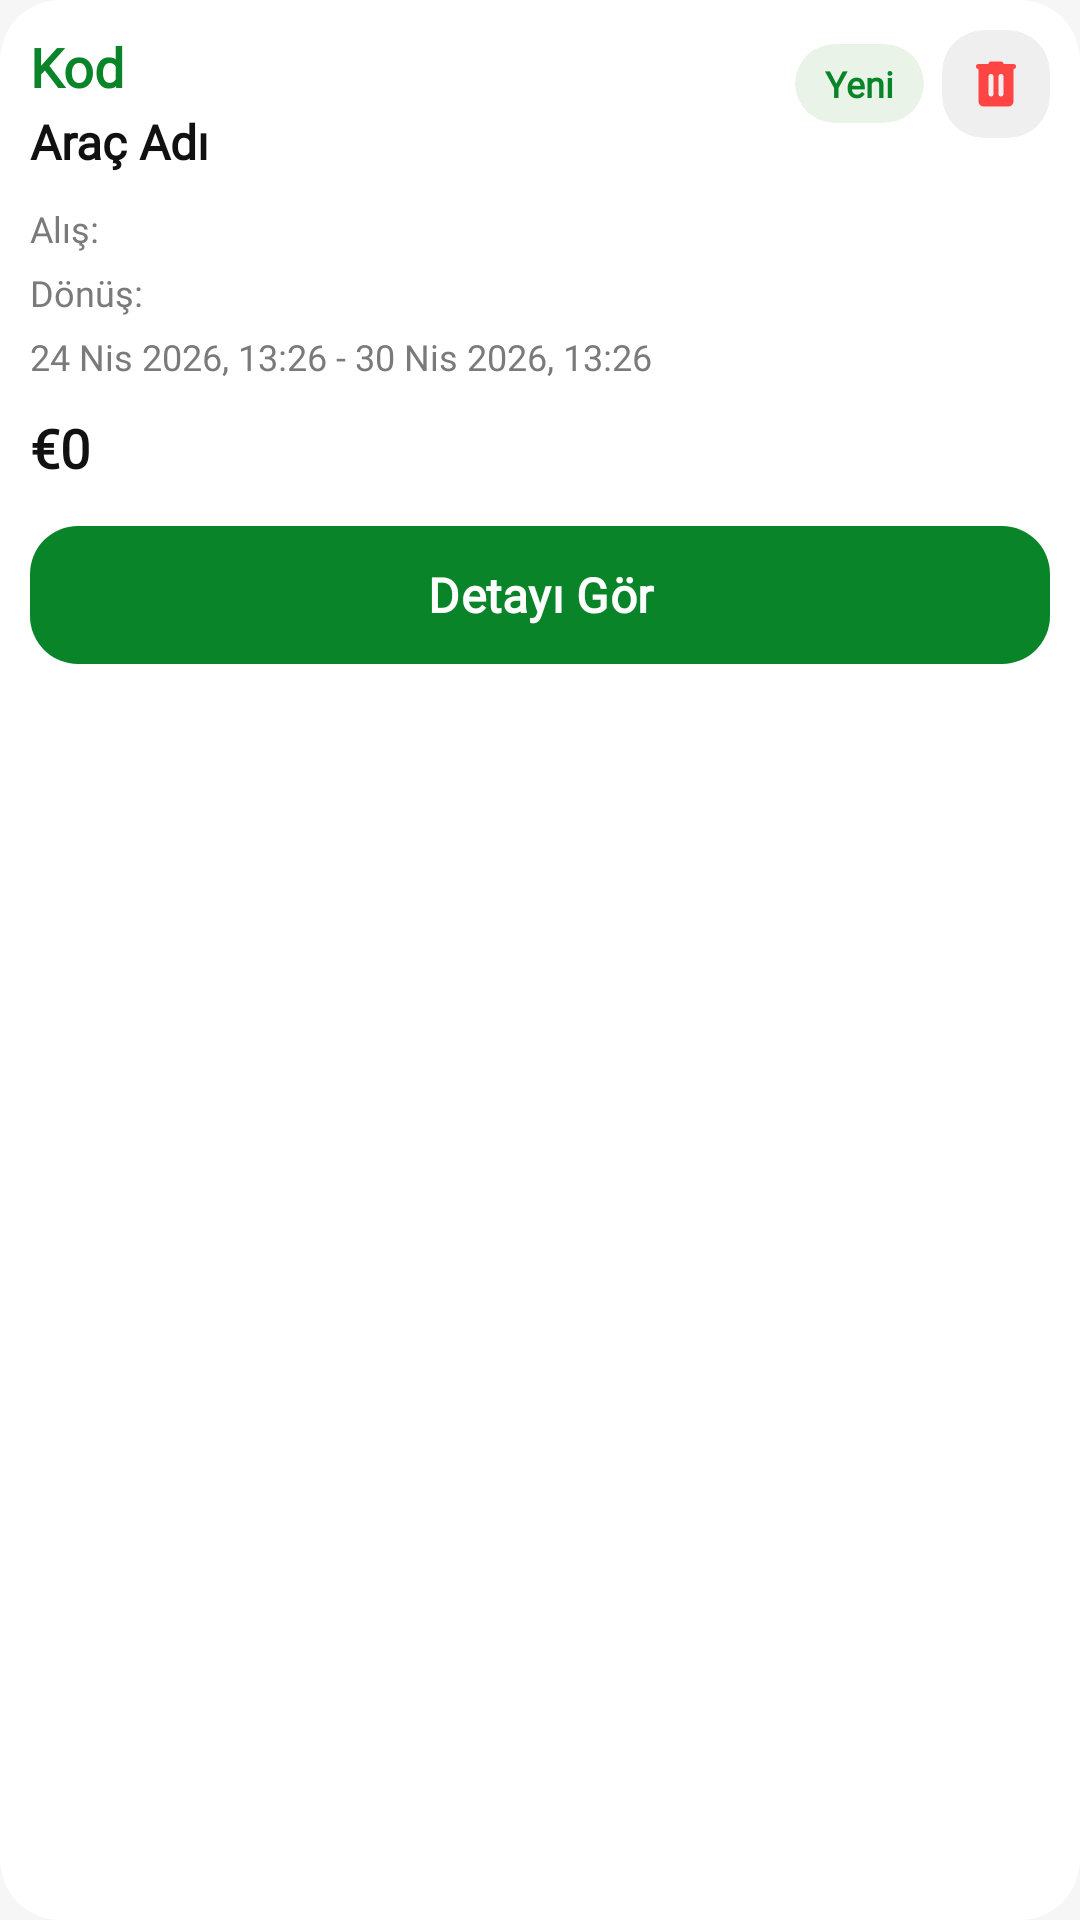

Named icons in this screenshot (1080px x 1920px) and their centers, (x=x, y=y):
delete: (x=996, y=84)
